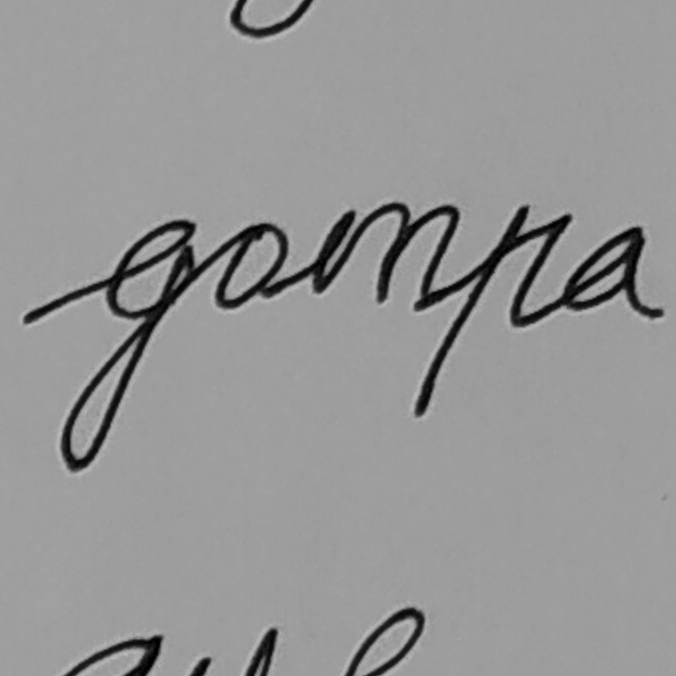a: (559, 223, 666, 329)
g: (56, 214, 201, 474)
m: (309, 197, 462, 312)
o: (209, 220, 292, 314)
p: (408, 200, 577, 419)
